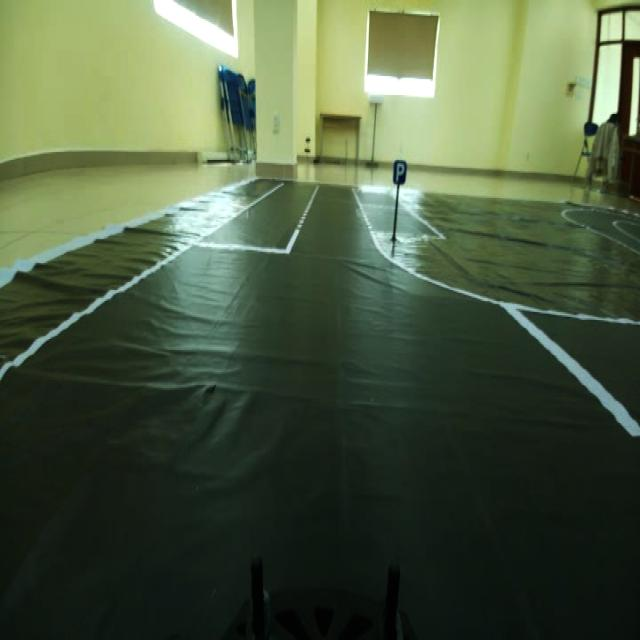parking: (389, 154, 409, 188)
